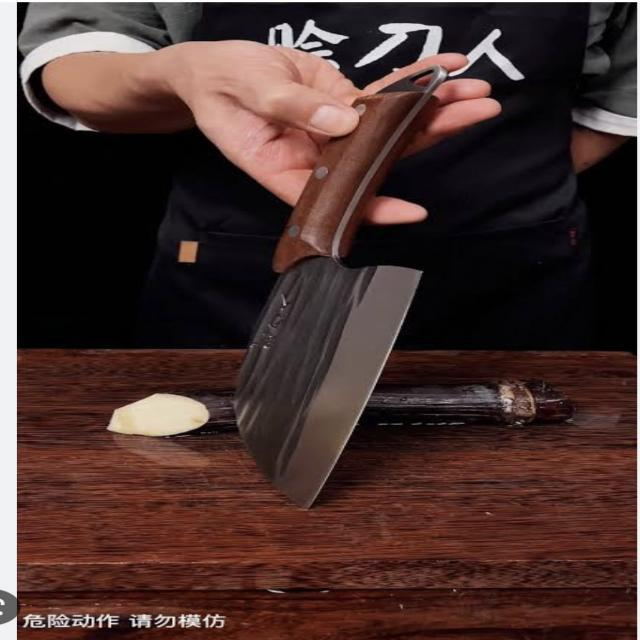Knife: (173, 39, 512, 514)
